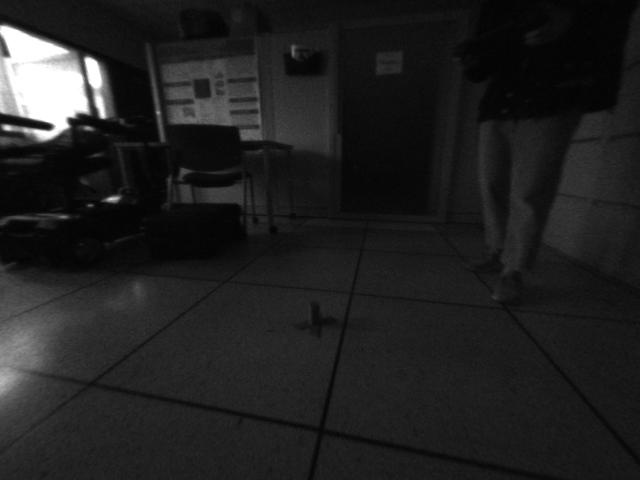x: (289, 300, 337, 343)
